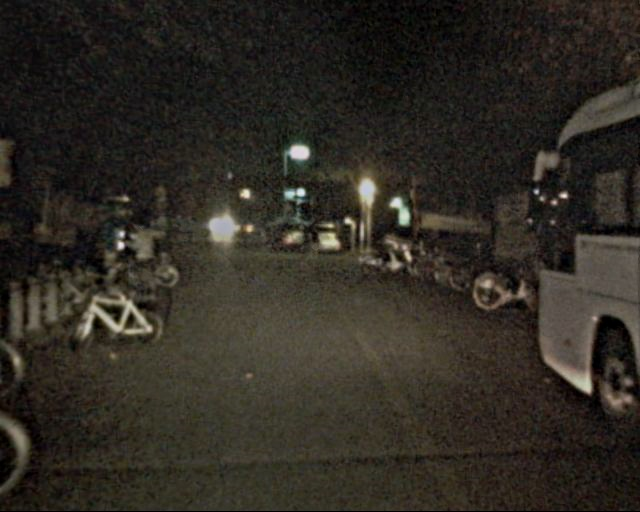person: (127, 218, 161, 302), (305, 221, 323, 264), (259, 219, 274, 255)
